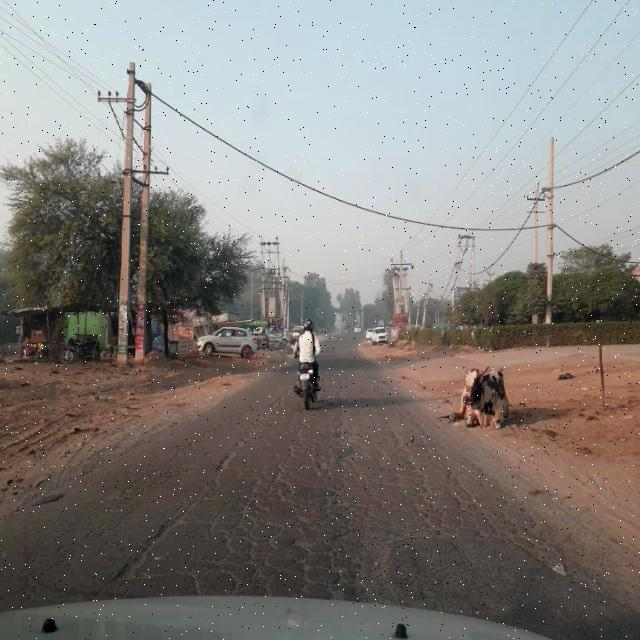D00: (104, 391, 286, 588)
D20: (149, 432, 507, 592)
